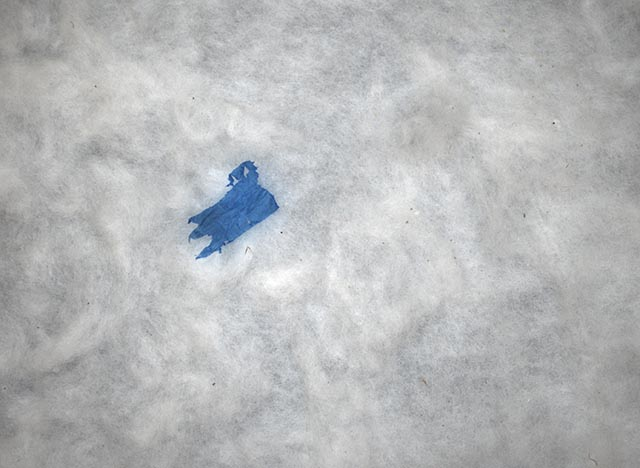plastic film: (186, 160, 279, 262)
